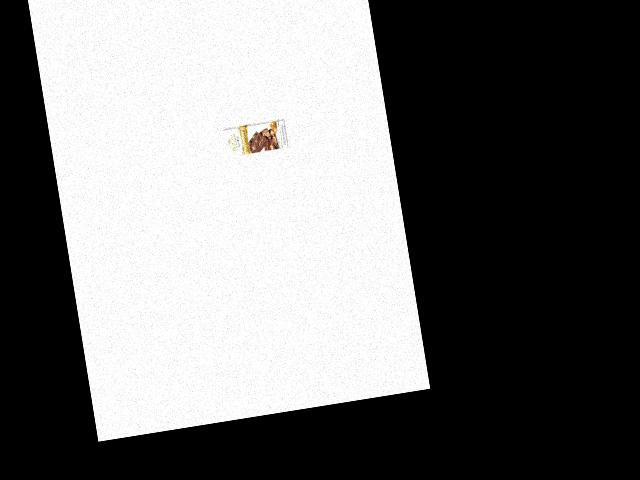chocolate: (218, 113, 289, 164)
